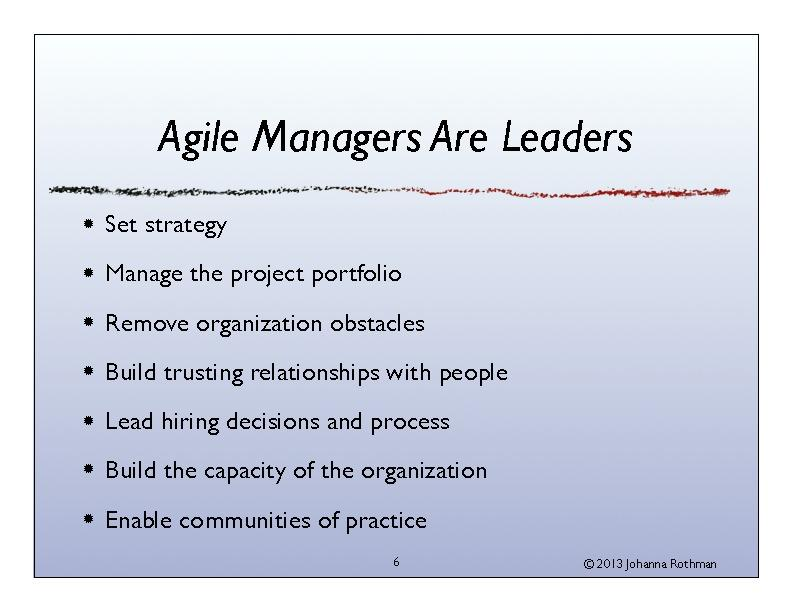paragraph: (57, 199, 736, 566)
title: (155, 109, 665, 173)
